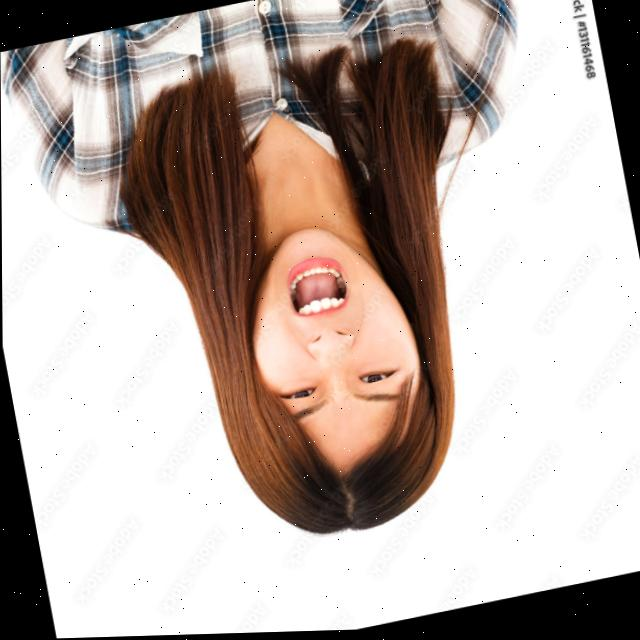angry: (194, 194, 463, 544)
